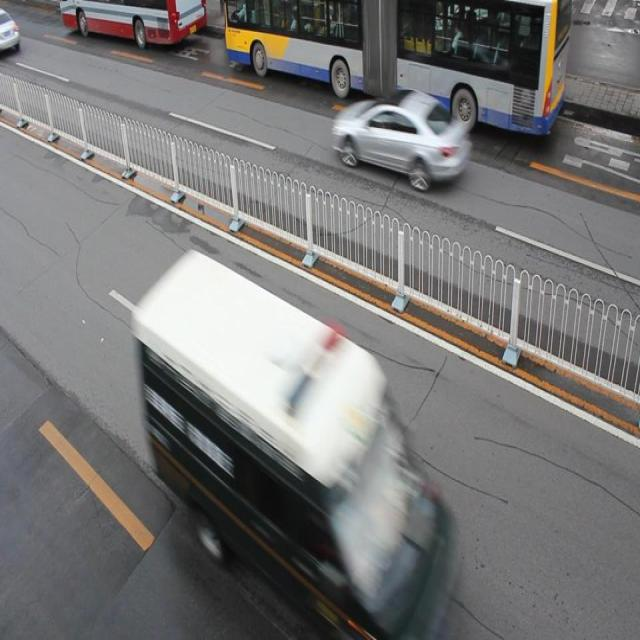car: (330, 86, 470, 187), (1, 8, 21, 58)
truck: (134, 246, 446, 640)
van: (223, 1, 568, 136), (61, 1, 206, 45)
